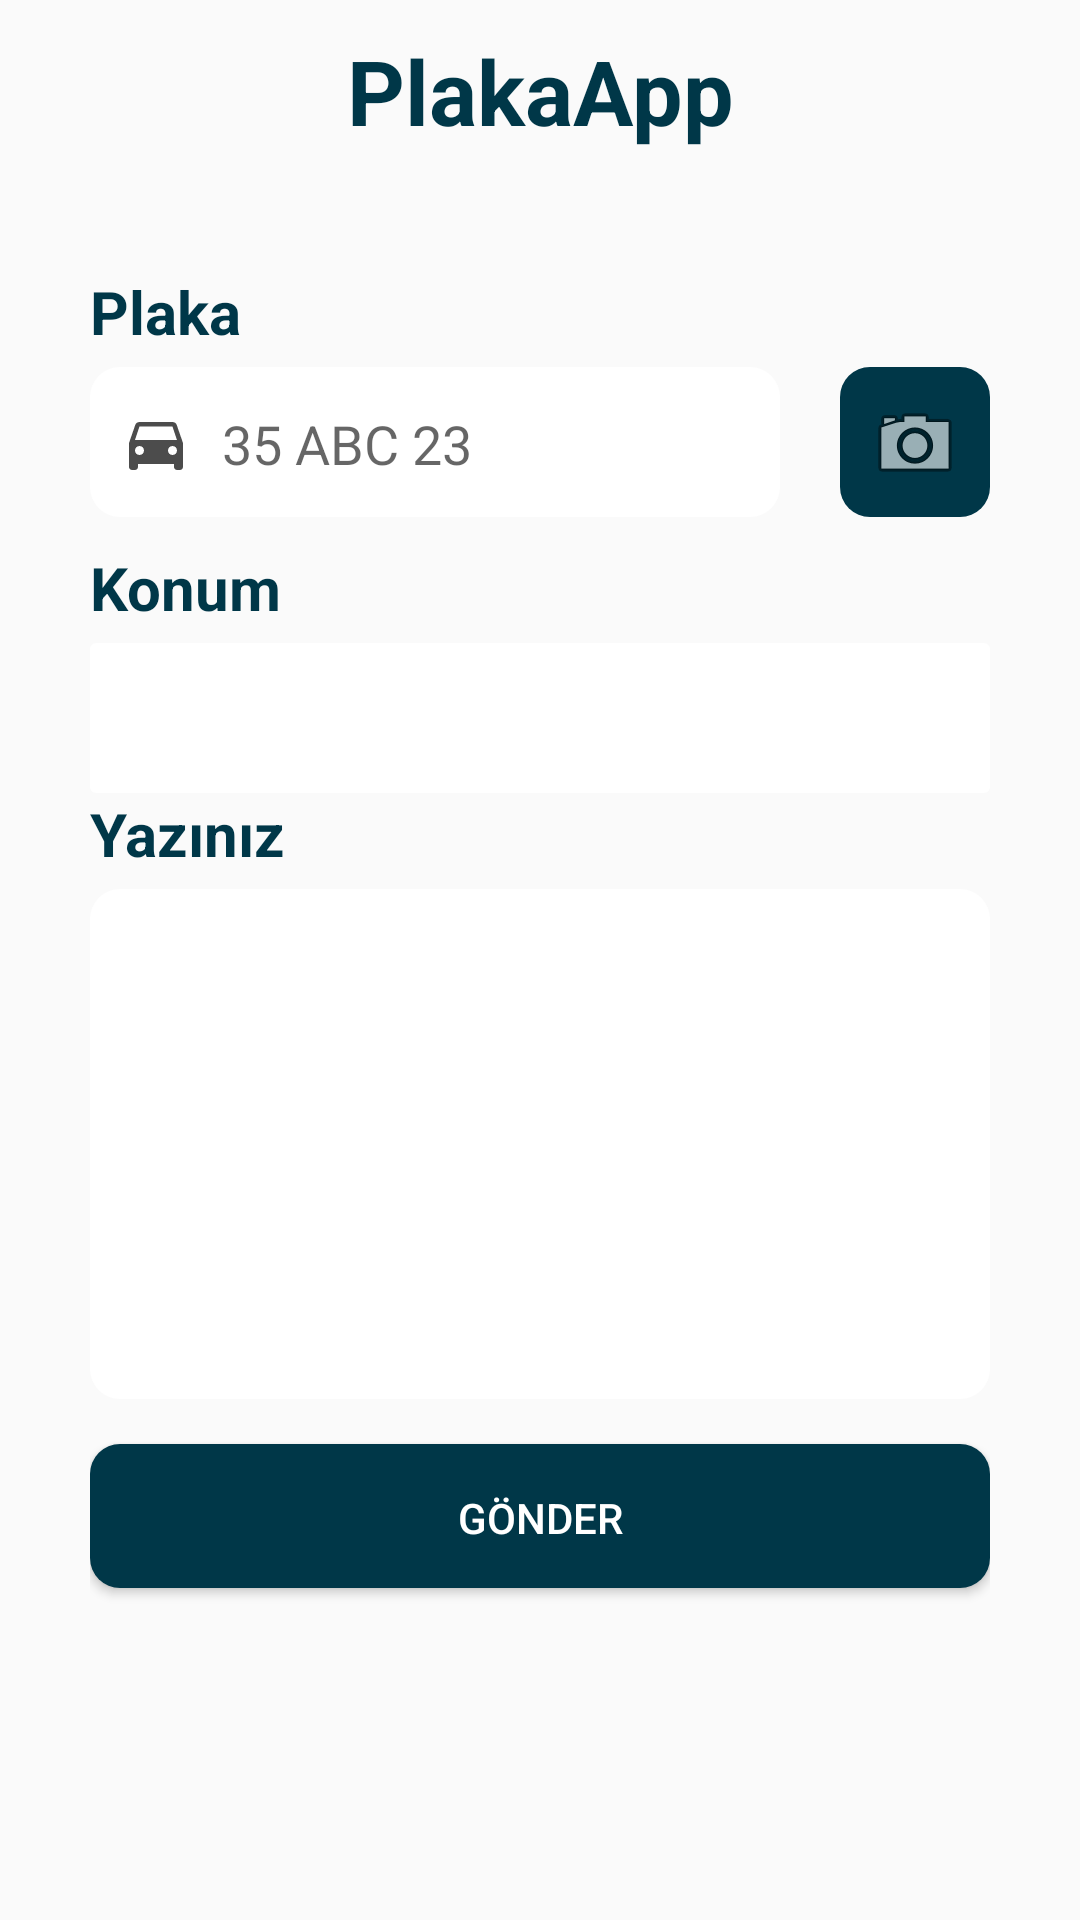

Locate icon controls on the screen. Image size 1080 × 1920, boxes as (x1, y1, x2, y2).
camera: (840, 367, 990, 517)
